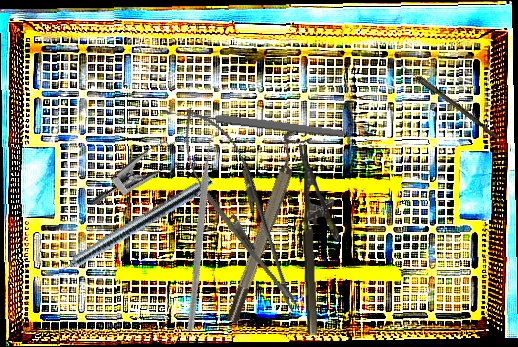Chopper: (115, 129, 298, 332)
Fixation Ring: (215, 128, 312, 326)
Handpiece: (42, 171, 216, 285)
Needle Holder: (163, 96, 319, 324), (298, 142, 344, 336)
Speculum: (89, 118, 206, 238)
Surgical Spoon: (387, 54, 502, 141), (162, 105, 344, 140)
